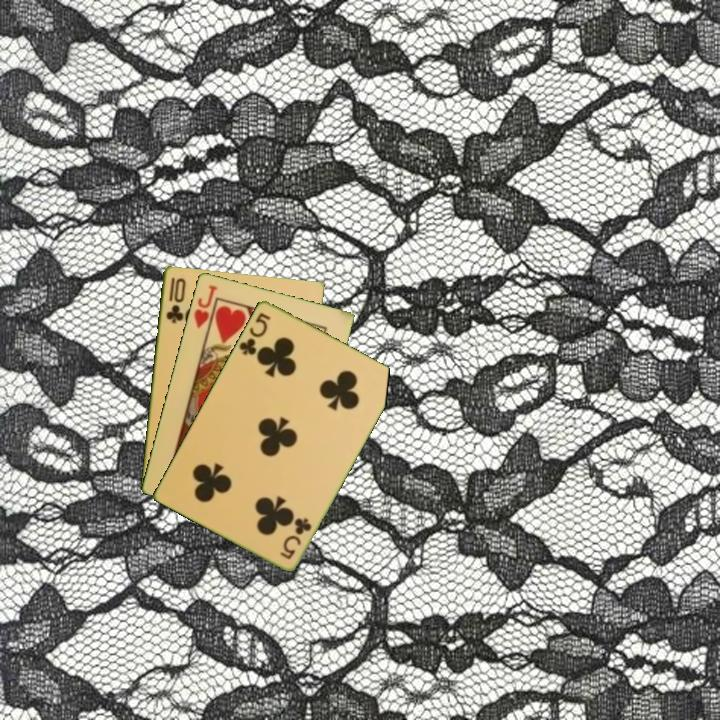10c: (162, 273, 188, 326)
5c: (235, 309, 273, 358), (276, 514, 314, 562)
Jh: (190, 281, 220, 331)
